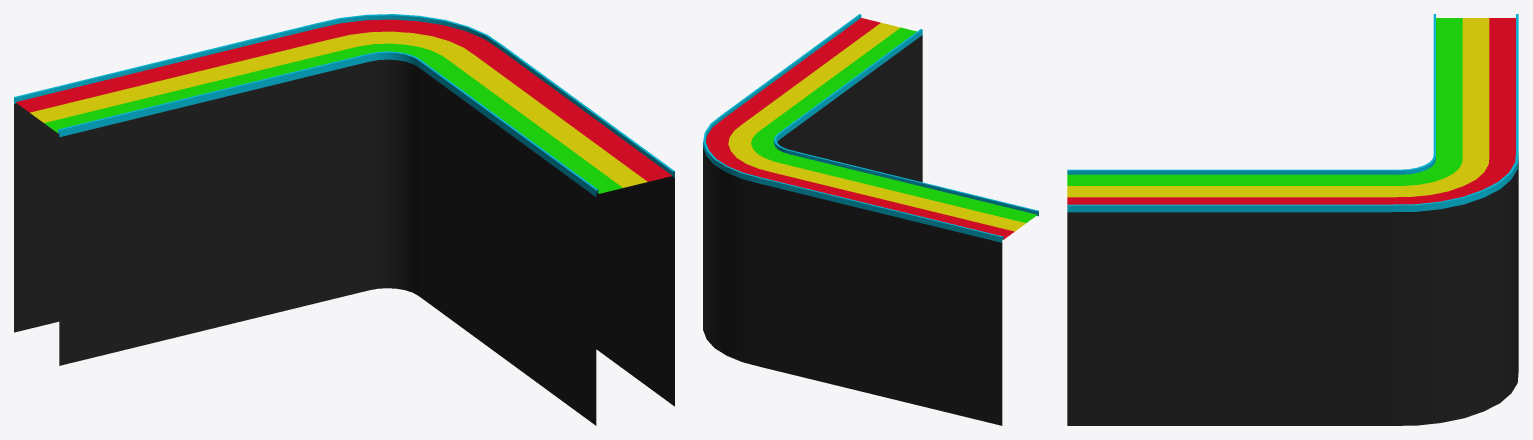
The model's file is Turn_Test_Curve (1).fbx.
The picture shows the model from 3 angles, left to right: view 1: azimuth 30°, elevation 25°; view 2: azimuth 150°, elevation 25°; view 3: azimuth 270°, elevation 25°; orthographic projection. The views are drawn at different scales.
Parts seen in each view (by area): view 1: Plane.186; view 2: Plane.186; view 3: Plane.186.
Part boxes in pixels (box(x1,y1,x2,y2)): Plane.186: box(14, 14, 674, 425); Plane.186: box(703, 14, 1038, 425); Plane.186: box(1067, 14, 1518, 425).
Bounding box in the file's own units: 1268 × 680 × 1262.
